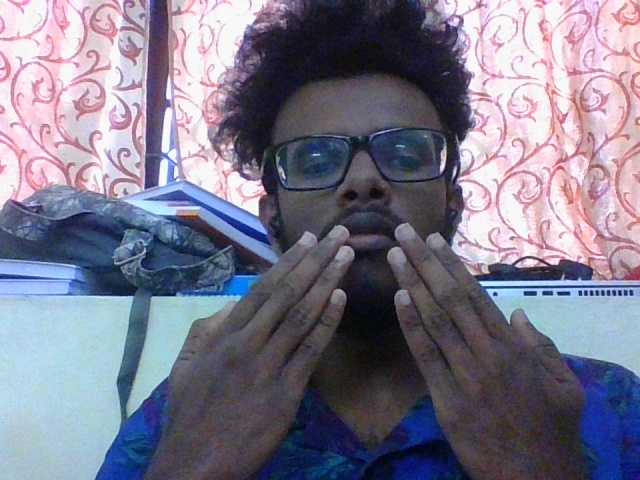thank: (158, 219, 605, 472)
